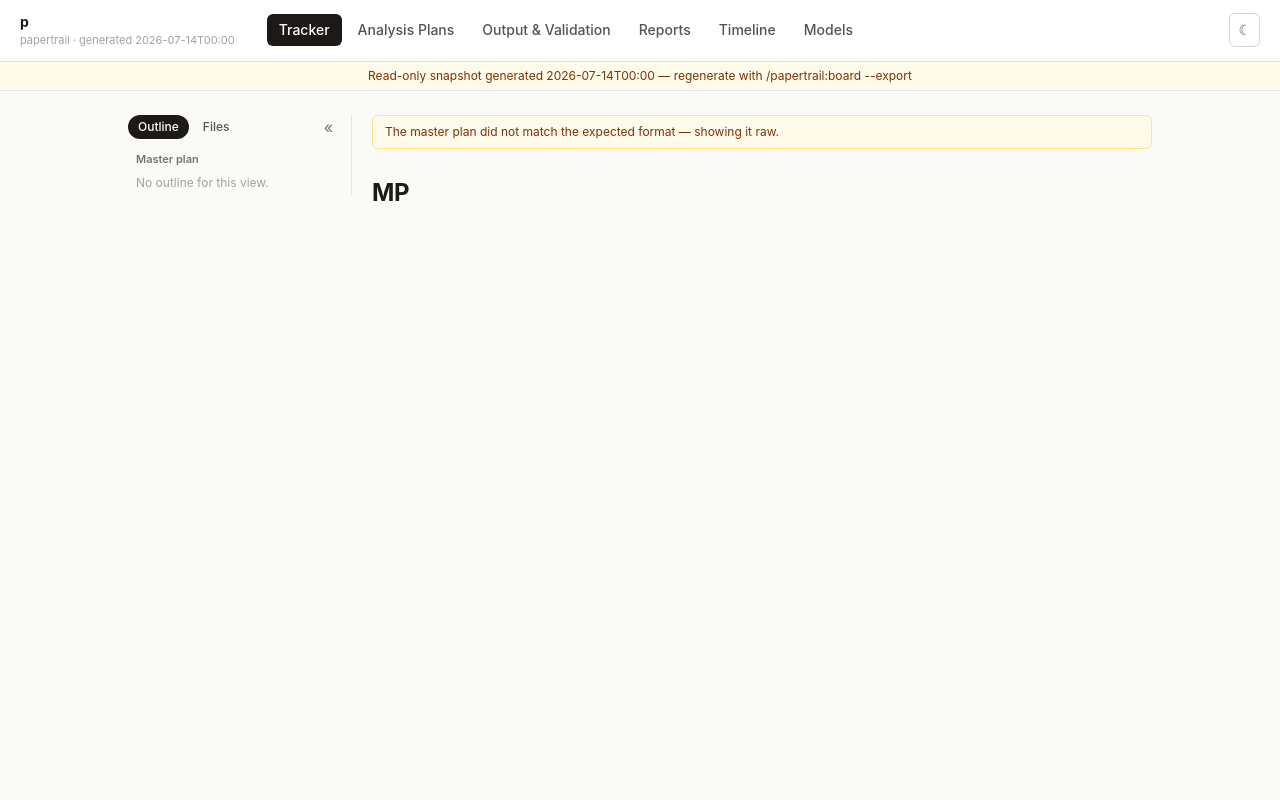
Test: App (static mode render/route) › routes Files -> component -> Plans -> vN, then collapses the sidebar
Check: the tab "outline" is shown, box [128,114,189,138]
Note: Switch to Files.
Click the tab "files": [216, 126] box [193,114,239,138]
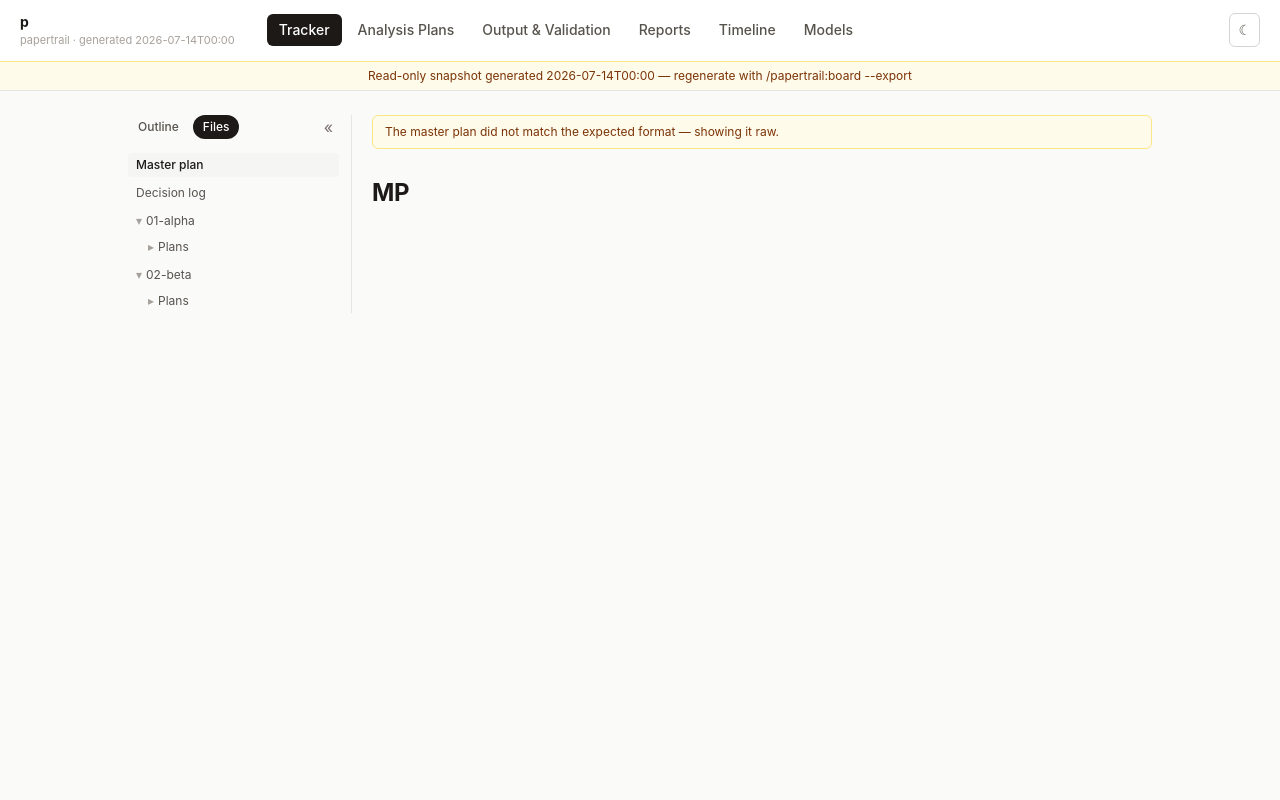
Note: Expand 01-alpha's Plans group (depth-1 groups start collapsed) and open v1.
Click the 1st text "Plans": [173, 246] box [158,238,189,254]
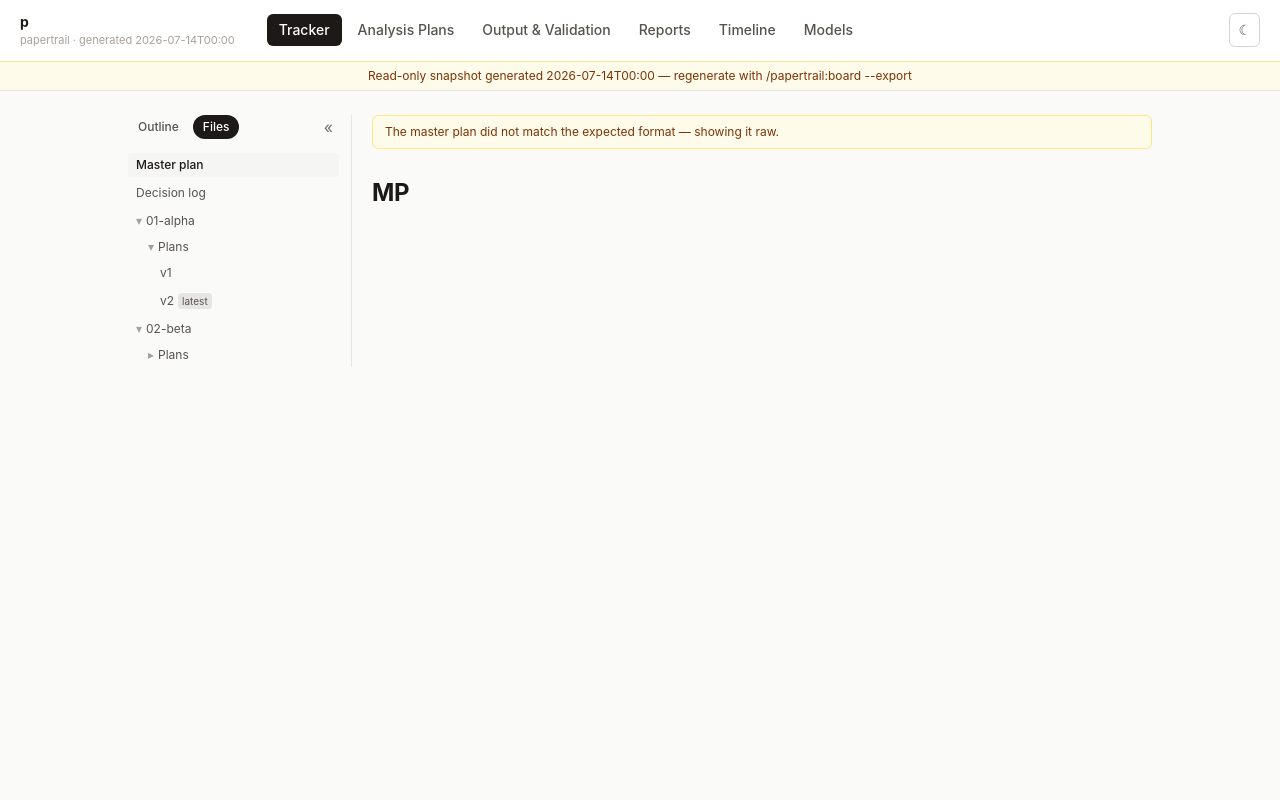
Click the list item "v1": [234, 272] box [128,260,339,284]
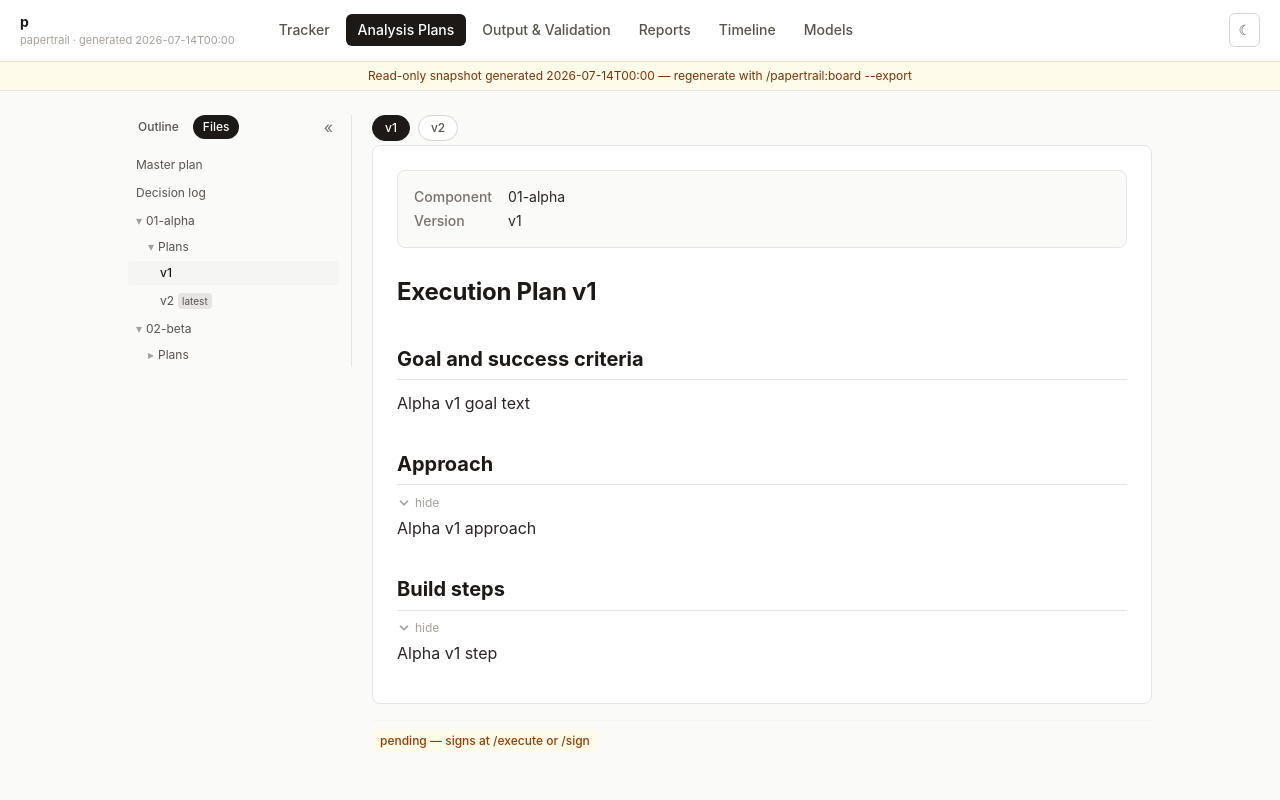
Check: the text "Alpha v1 goal text" is shown, box [397,393,530,413]
Click the button named "collapse sidebar": [328, 126] box [318,114,339,138]
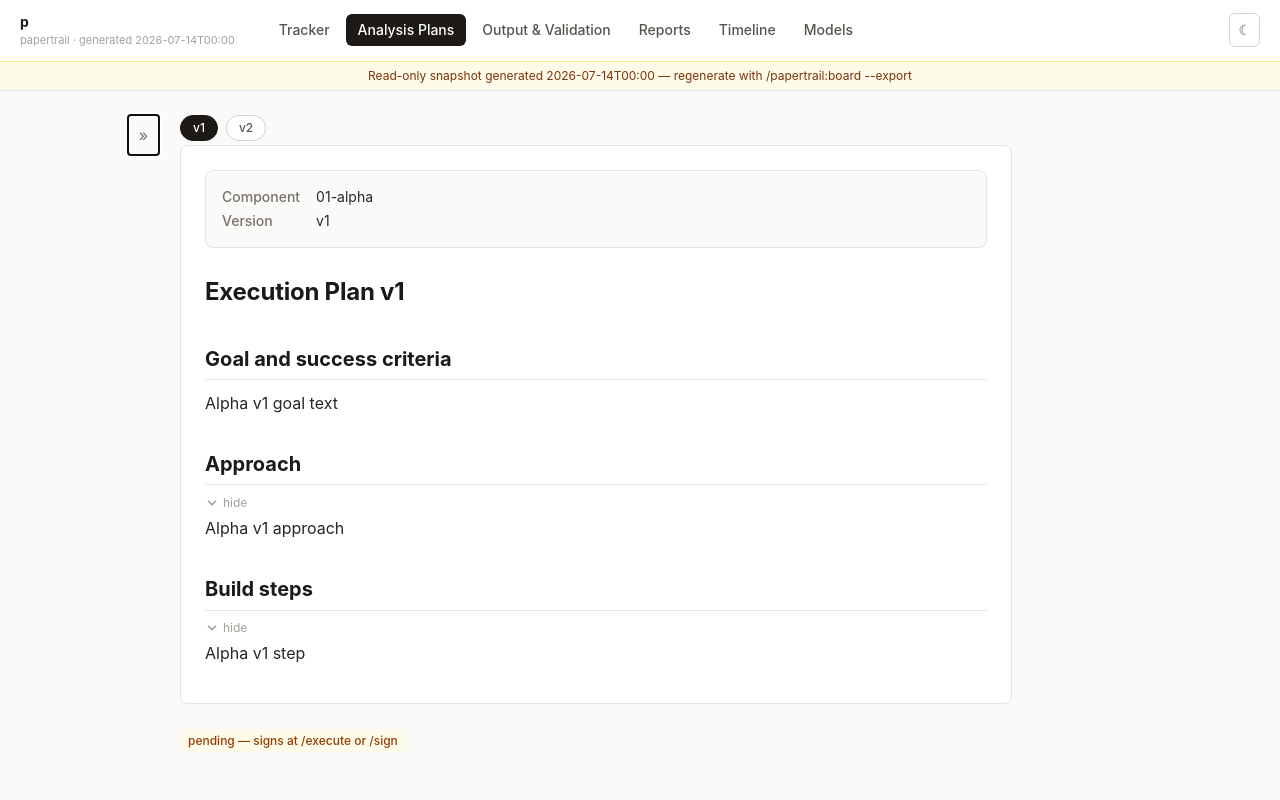
Check: the tab "files" is gone
Check: the tab "outline" is gone
Check: the button named "expand sidebar" is shown, box [128,114,159,154]
